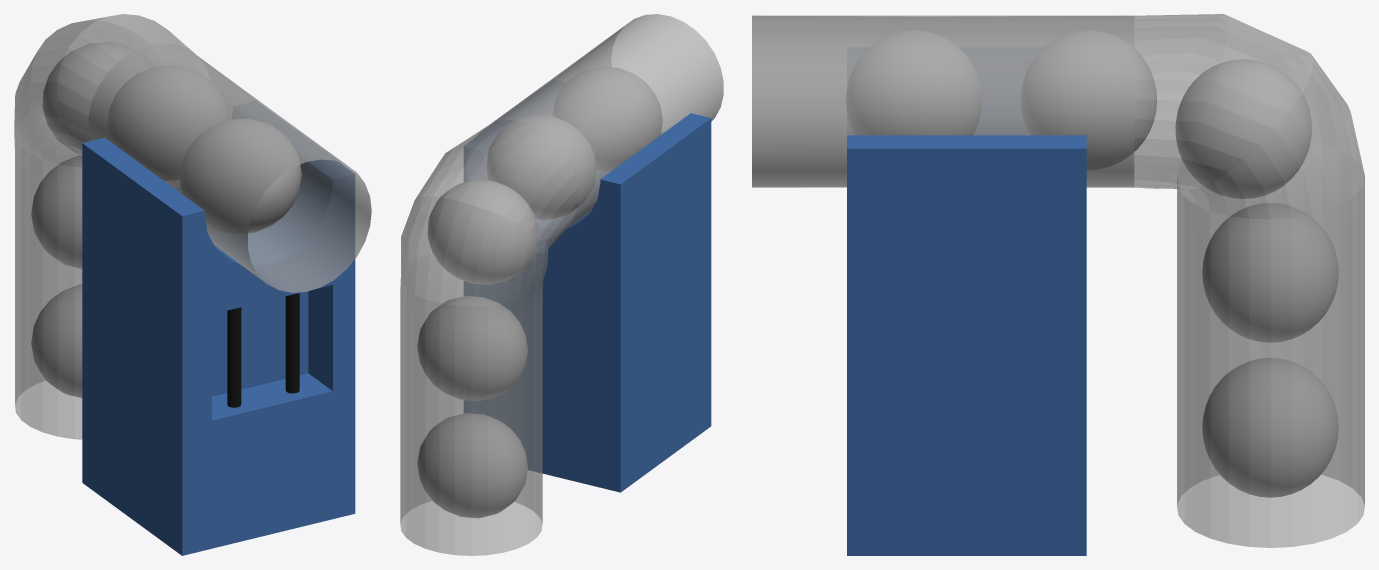
File: ball bo.fbx
3 renders of one model, left to right at view 1: azimuth 30°, elevation 25°; view 2: azimuth 150°, elevation 25°; view 3: azimuth 270°, elevation 25°, orthographic. The views are drawn at different scales.
Parts seen in each view (by area): view 1: pCube5, polySurface1, pSphere1, pSphere2, pSphere3, pSphere4, pSphere5, pCylinder2, pCylinder3; view 2: polySurface1, pCube5, pSphere5, pSphere4, pSphere3, pSphere2, pSphere1; view 3: polySurface1, pCube5, pSphere3, pSphere5, pSphere4, pSphere2, pSphere1.
Part boxes in pixels (left/top/right/bottom): pCube5: left=82, top=137, right=355, bottom=555; polySurface1: left=14, top=14, right=371, bottom=439; pSphere1: left=180, top=119, right=301, bottom=234; pSphere2: left=107, top=65, right=228, bottom=180; pSphere3: left=42, top=42, right=152, bottom=154; pSphere4: left=31, top=155, right=82, bottom=268; pSphere5: left=31, top=284, right=82, bottom=397; pCylinder2: left=227, top=307, right=241, bottom=407; pCylinder3: left=285, top=293, right=299, bottom=393; polySurface1: left=400, top=14, right=723, bottom=555; pCube5: left=464, top=113, right=711, bottom=492; pSphere5: left=417, top=413, right=527, bottom=518; pSphere4: left=417, top=296, right=527, bottom=400; pSphere3: left=427, top=180, right=537, bottom=284; pSphere2: left=486, top=115, right=596, bottom=220; pSphere1: left=552, top=67, right=662, bottom=171; polySurface1: left=752, top=14, right=1364, bottom=547; pCube5: left=847, top=135, right=1086, bottom=555; pSphere3: left=1175, top=59, right=1311, bottom=198; pSphere5: left=1202, top=358, right=1338, bottom=497; pSphere4: left=1202, top=203, right=1338, bottom=342; pSphere2: left=1021, top=30, right=1156, bottom=169; pSphere1: left=846, top=30, right=981, bottom=134.
Size of what is drawn, in the model's own units: 1 by 2.23 by 2.56.
